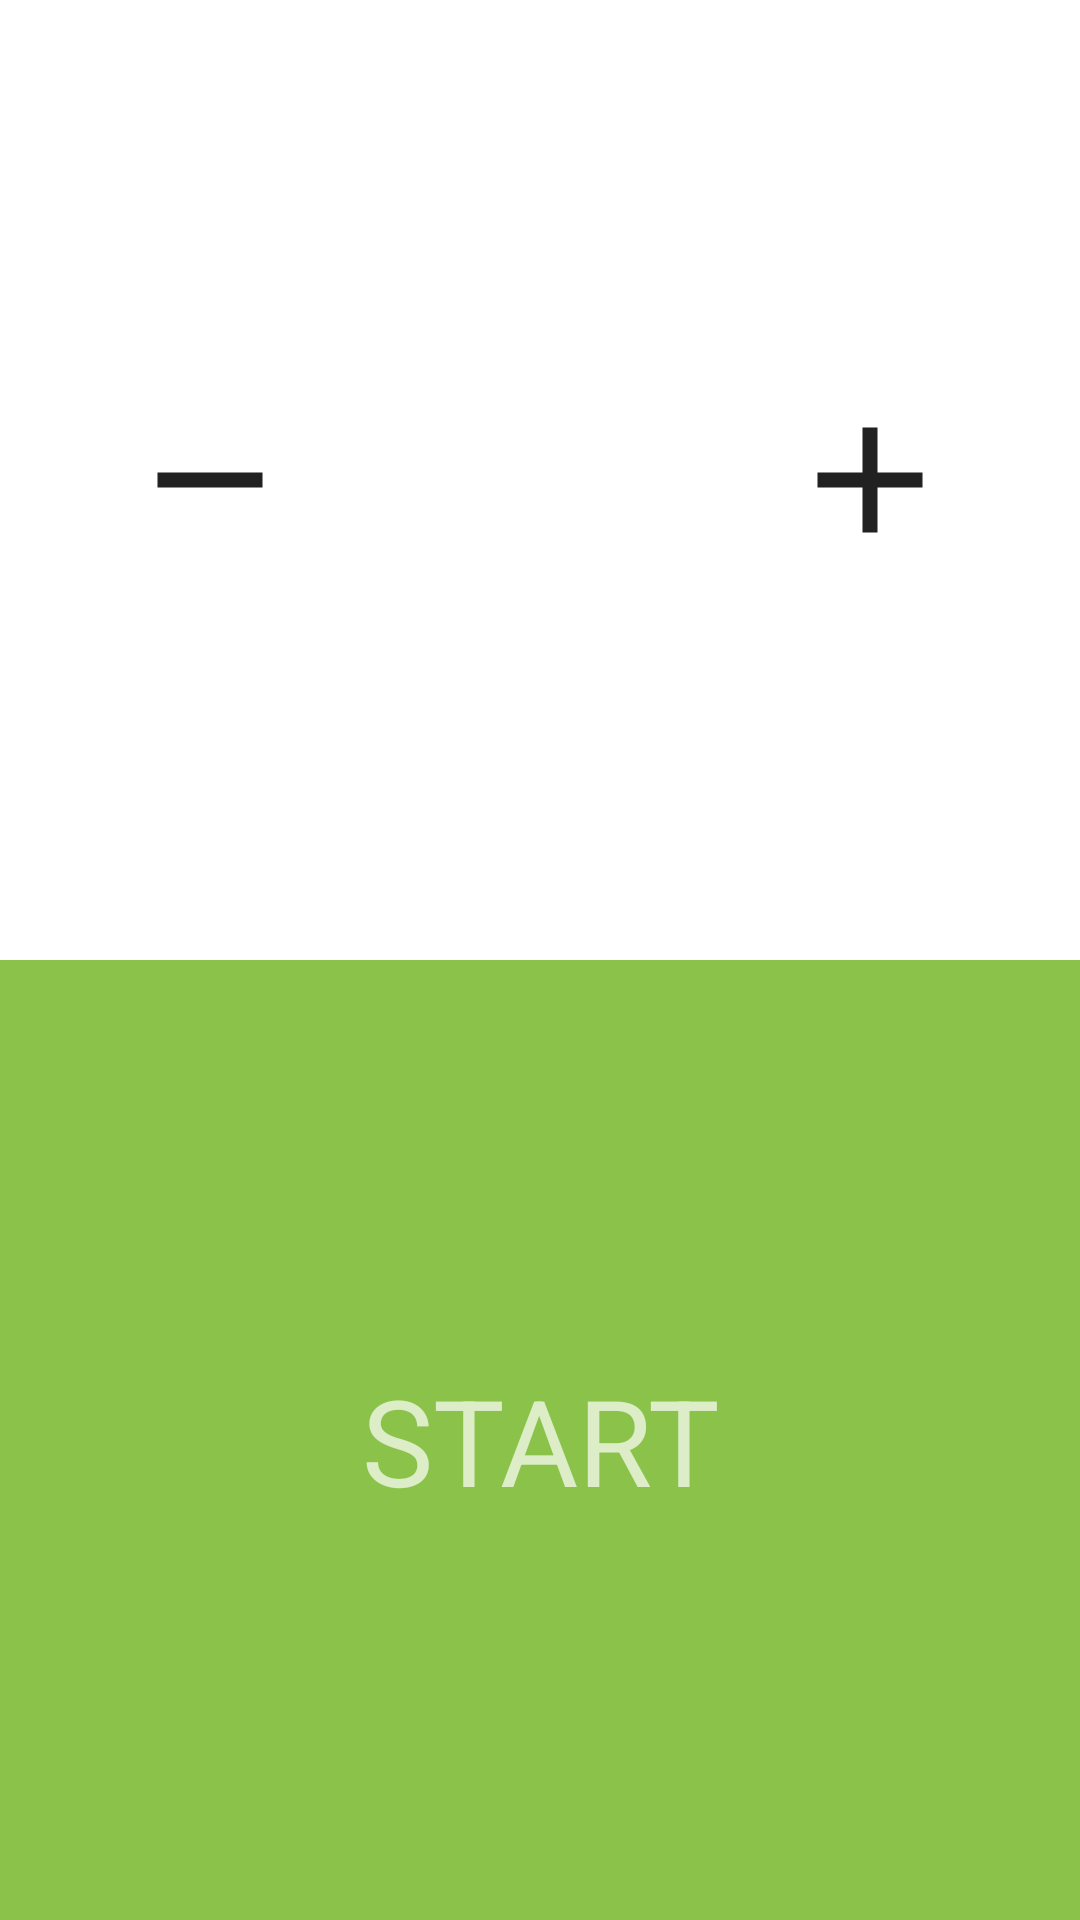

Icon click points for this 1080w x 1920h phone screenshot, format (x=x, y=y):
plus: (x=870, y=480)
